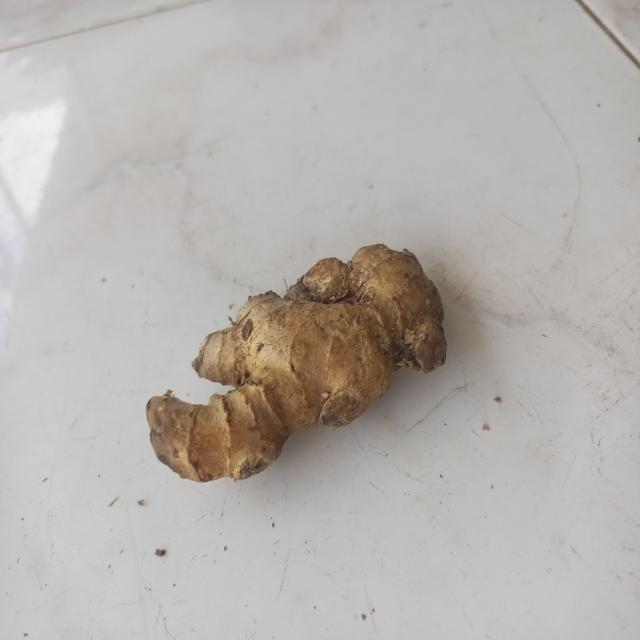ginger: (148, 242, 450, 481)
